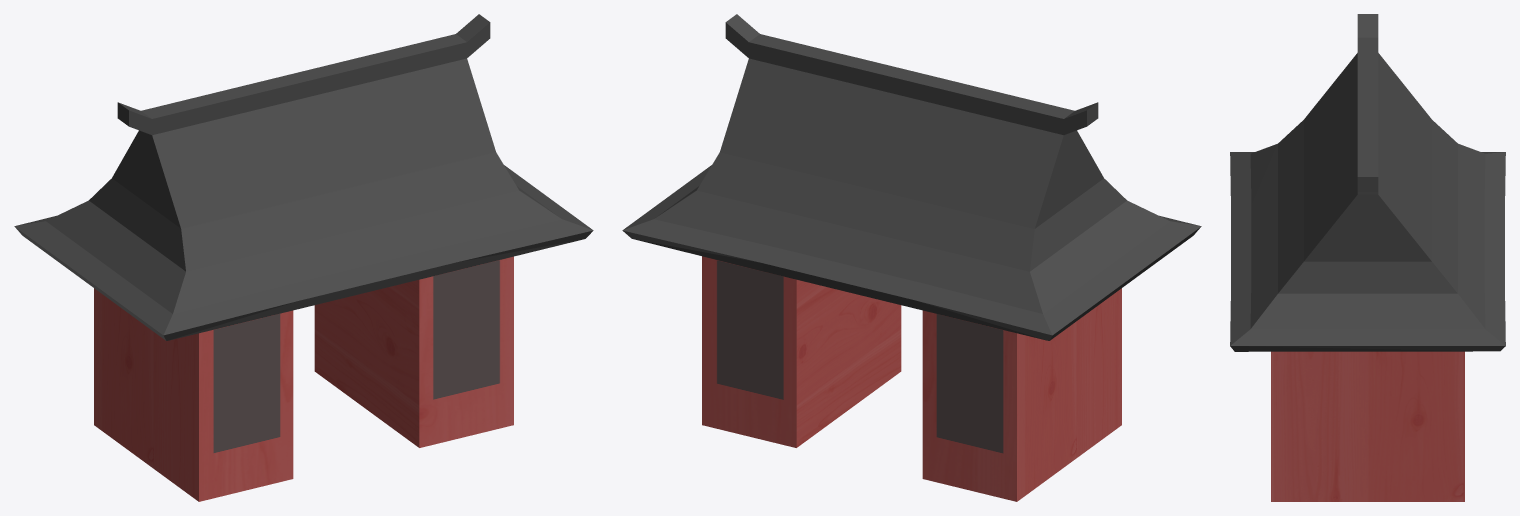
The model's file is propsTreeMain_v7.fbx.
The picture shows the model from 3 angles, left to right: view 1: azimuth 30°, elevation 25°; view 2: azimuth 150°, elevation 25°; view 3: azimuth 270°, elevation 25°; orthographic projection. The views are drawn at different scales.
Parts seen in each view (by area): view 1: pCube23; view 2: pCube23; view 3: pCube23.
Boxes of the visible parts, box(x1,y1,x2,y2) form: pCube23: box(14, 14, 593, 501); pCube23: box(622, 14, 1201, 501); pCube23: box(1230, 14, 1505, 501).
Size of the model in its own units: 3.63 by 2.92 by 2.18.
